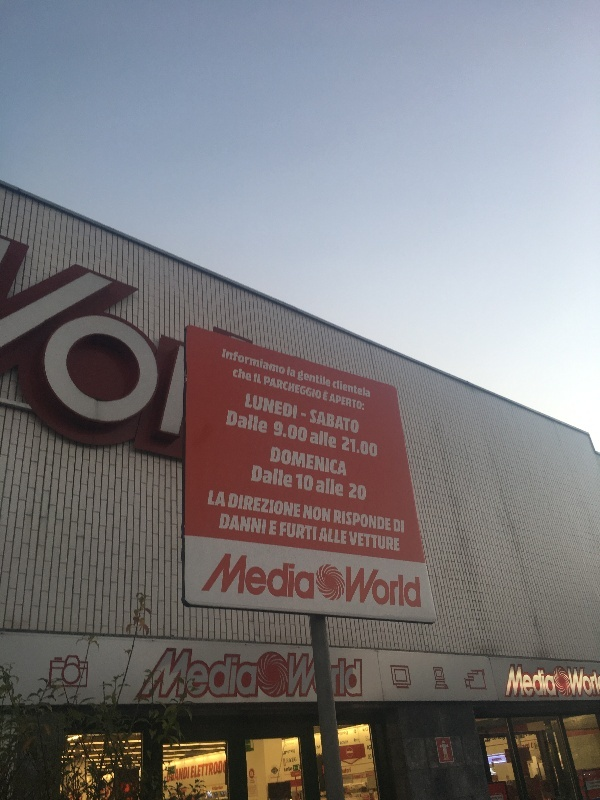text: (1, 234, 16, 449), (17, 234, 32, 449), (33, 234, 48, 449), (49, 234, 64, 449), (65, 234, 80, 449), (81, 234, 96, 449), (97, 234, 112, 449), (113, 234, 128, 449), (129, 234, 144, 449), (145, 234, 160, 449), (161, 234, 176, 449), (177, 234, 188, 449), (177, 647, 192, 699), (193, 647, 208, 699), (209, 647, 224, 699), (225, 647, 240, 699), (241, 647, 256, 699), (241, 553, 256, 600), (257, 553, 272, 600), (273, 553, 288, 600), (289, 553, 304, 600), (289, 652, 304, 698), (305, 652, 320, 698), (226, 553, 240, 600), (257, 393, 272, 435), (273, 393, 288, 435), (289, 393, 304, 435), (305, 393, 320, 435), (321, 393, 336, 435), (337, 393, 352, 435), (353, 566, 368, 608), (369, 566, 384, 608), (385, 566, 400, 608), (401, 566, 416, 608), (337, 657, 352, 698), (513, 663, 528, 698), (529, 663, 544, 698), (305, 553, 315, 600), (167, 647, 176, 699), (273, 446, 288, 477), (289, 446, 304, 477), (305, 446, 320, 477), (321, 446, 336, 477), (577, 666, 592, 697), (225, 345, 240, 375), (241, 345, 256, 375), (257, 345, 272, 375), (545, 663, 557, 698), (353, 657, 363, 698), (273, 345, 286, 375), (273, 375, 288, 401), (289, 375, 304, 401), (305, 375, 320, 401), (241, 409, 256, 435), (247, 393, 256, 435), (257, 464, 272, 489), (273, 464, 288, 489), (241, 493, 256, 518), (257, 493, 272, 518), (273, 493, 288, 518), (289, 419, 304, 443), (337, 509, 352, 532), (353, 509, 368, 532), (369, 509, 384, 532), (321, 428, 336, 450), (353, 436, 368, 458), (225, 513, 240, 535), (241, 513, 256, 535), (321, 476, 336, 497), (353, 531, 368, 552), (369, 531, 384, 552), (385, 531, 400, 552), (228, 409, 240, 435), (257, 409, 269, 435), (275, 419, 288, 443), (337, 446, 347, 477), (337, 378, 352, 398), (353, 378, 368, 398), (289, 493, 301, 518), (289, 522, 304, 541), (567, 666, 576, 697), (305, 370, 320, 388), (337, 393, 352, 411), (305, 505, 320, 523), (177, 762, 192, 780), (193, 762, 208, 780), (353, 393, 359, 435), (210, 490, 224, 508), (346, 566, 352, 608), (209, 762, 223, 780), (230, 493, 240, 518), (322, 528, 336, 545), (353, 483, 366, 501), (305, 522, 317, 541), (257, 513, 267, 535), (593, 666, 600, 697), (353, 393, 365, 411), (417, 566, 422, 608), (331, 657, 336, 698), (311, 428, 320, 450), (343, 436, 352, 458), (369, 436, 378, 458), (321, 652, 325, 698), (265, 375, 272, 401), (321, 370, 331, 388), (321, 505, 331, 523), (337, 528, 347, 545), (305, 474, 314, 492), (257, 647, 260, 699), (241, 368, 252, 382), (337, 476, 344, 497), (324, 390, 336, 402), (296, 474, 304, 492), (385, 509, 391, 532), (167, 768, 176, 783), (281, 522, 288, 541), (289, 757, 304, 764), (289, 464, 293, 489), (339, 730, 352, 737), (299, 370, 304, 388), (331, 393, 336, 411), (289, 366, 296, 378), (234, 368, 240, 382), (394, 519, 400, 533), (342, 767, 352, 775), (253, 464, 256, 489), (257, 373, 263, 385), (305, 419, 308, 443), (510, 663, 512, 698), (273, 520, 277, 536), (317, 476, 320, 497), (333, 378, 336, 398), (340, 740, 352, 745), (401, 519, 405, 533), (289, 749, 296, 757), (213, 786, 224, 791), (349, 483, 352, 501), (334, 509, 336, 532), (222, 513, 224, 535), (350, 531, 352, 552), (522, 743, 528, 750), (369, 378, 371, 398), (283, 749, 288, 757), (529, 743, 534, 750), (321, 375, 322, 401), (337, 428, 338, 450), (284, 767, 288, 772), (289, 767, 293, 772), (369, 745, 372, 751), (271, 520, 272, 536), (255, 373, 256, 385), (317, 746, 320, 750), (366, 728, 368, 732)
